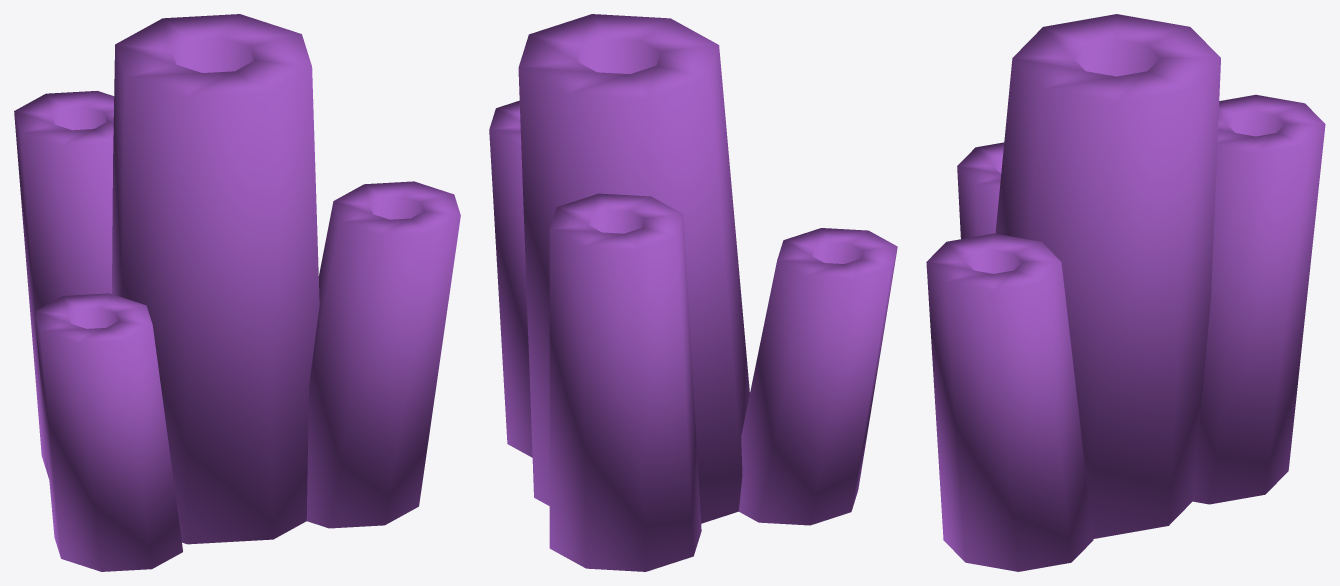
File: Medium3.fbx
The picture shows the model from 3 angles, left to right: view 1: azimuth 30°, elevation 25°; view 2: azimuth 150°, elevation 25°; view 3: azimuth 270°, elevation 25°; orthographic projection. The views are drawn at different scales.
Parts seen in each view (by area): view 1: Medium3; view 2: Medium3; view 3: Medium3.
Part boxes in pixels (<box>): Medium3: <box>14,14,460,571</box>; Medium3: <box>489,14,897,571</box>; Medium3: <box>926,14,1325,571</box>.
Size of the model in its own units: 3.47 by 3.55 by 2.93.
